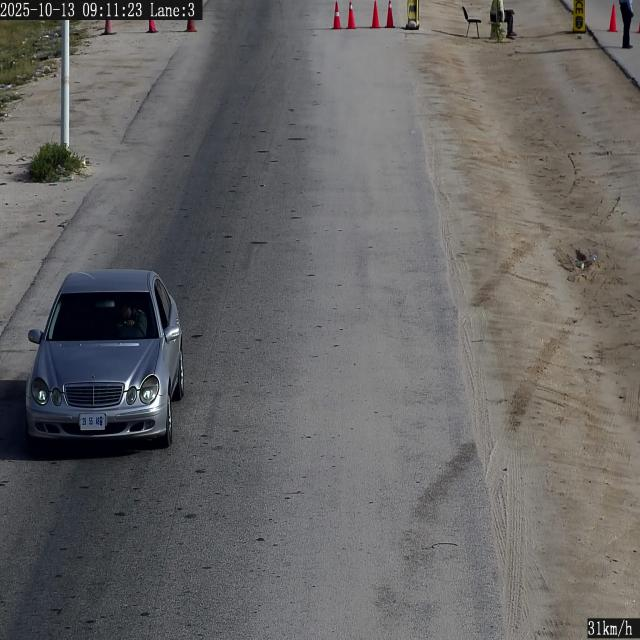BUS: (80, 413, 106, 430)
